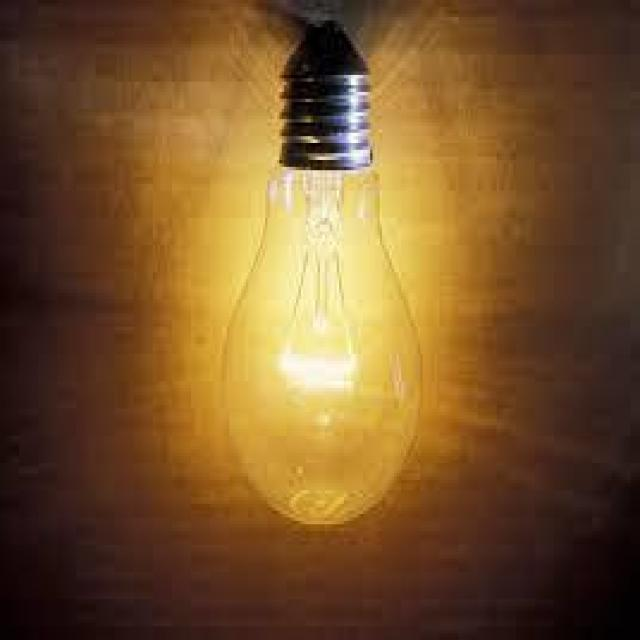other: (214, 187, 421, 470)
